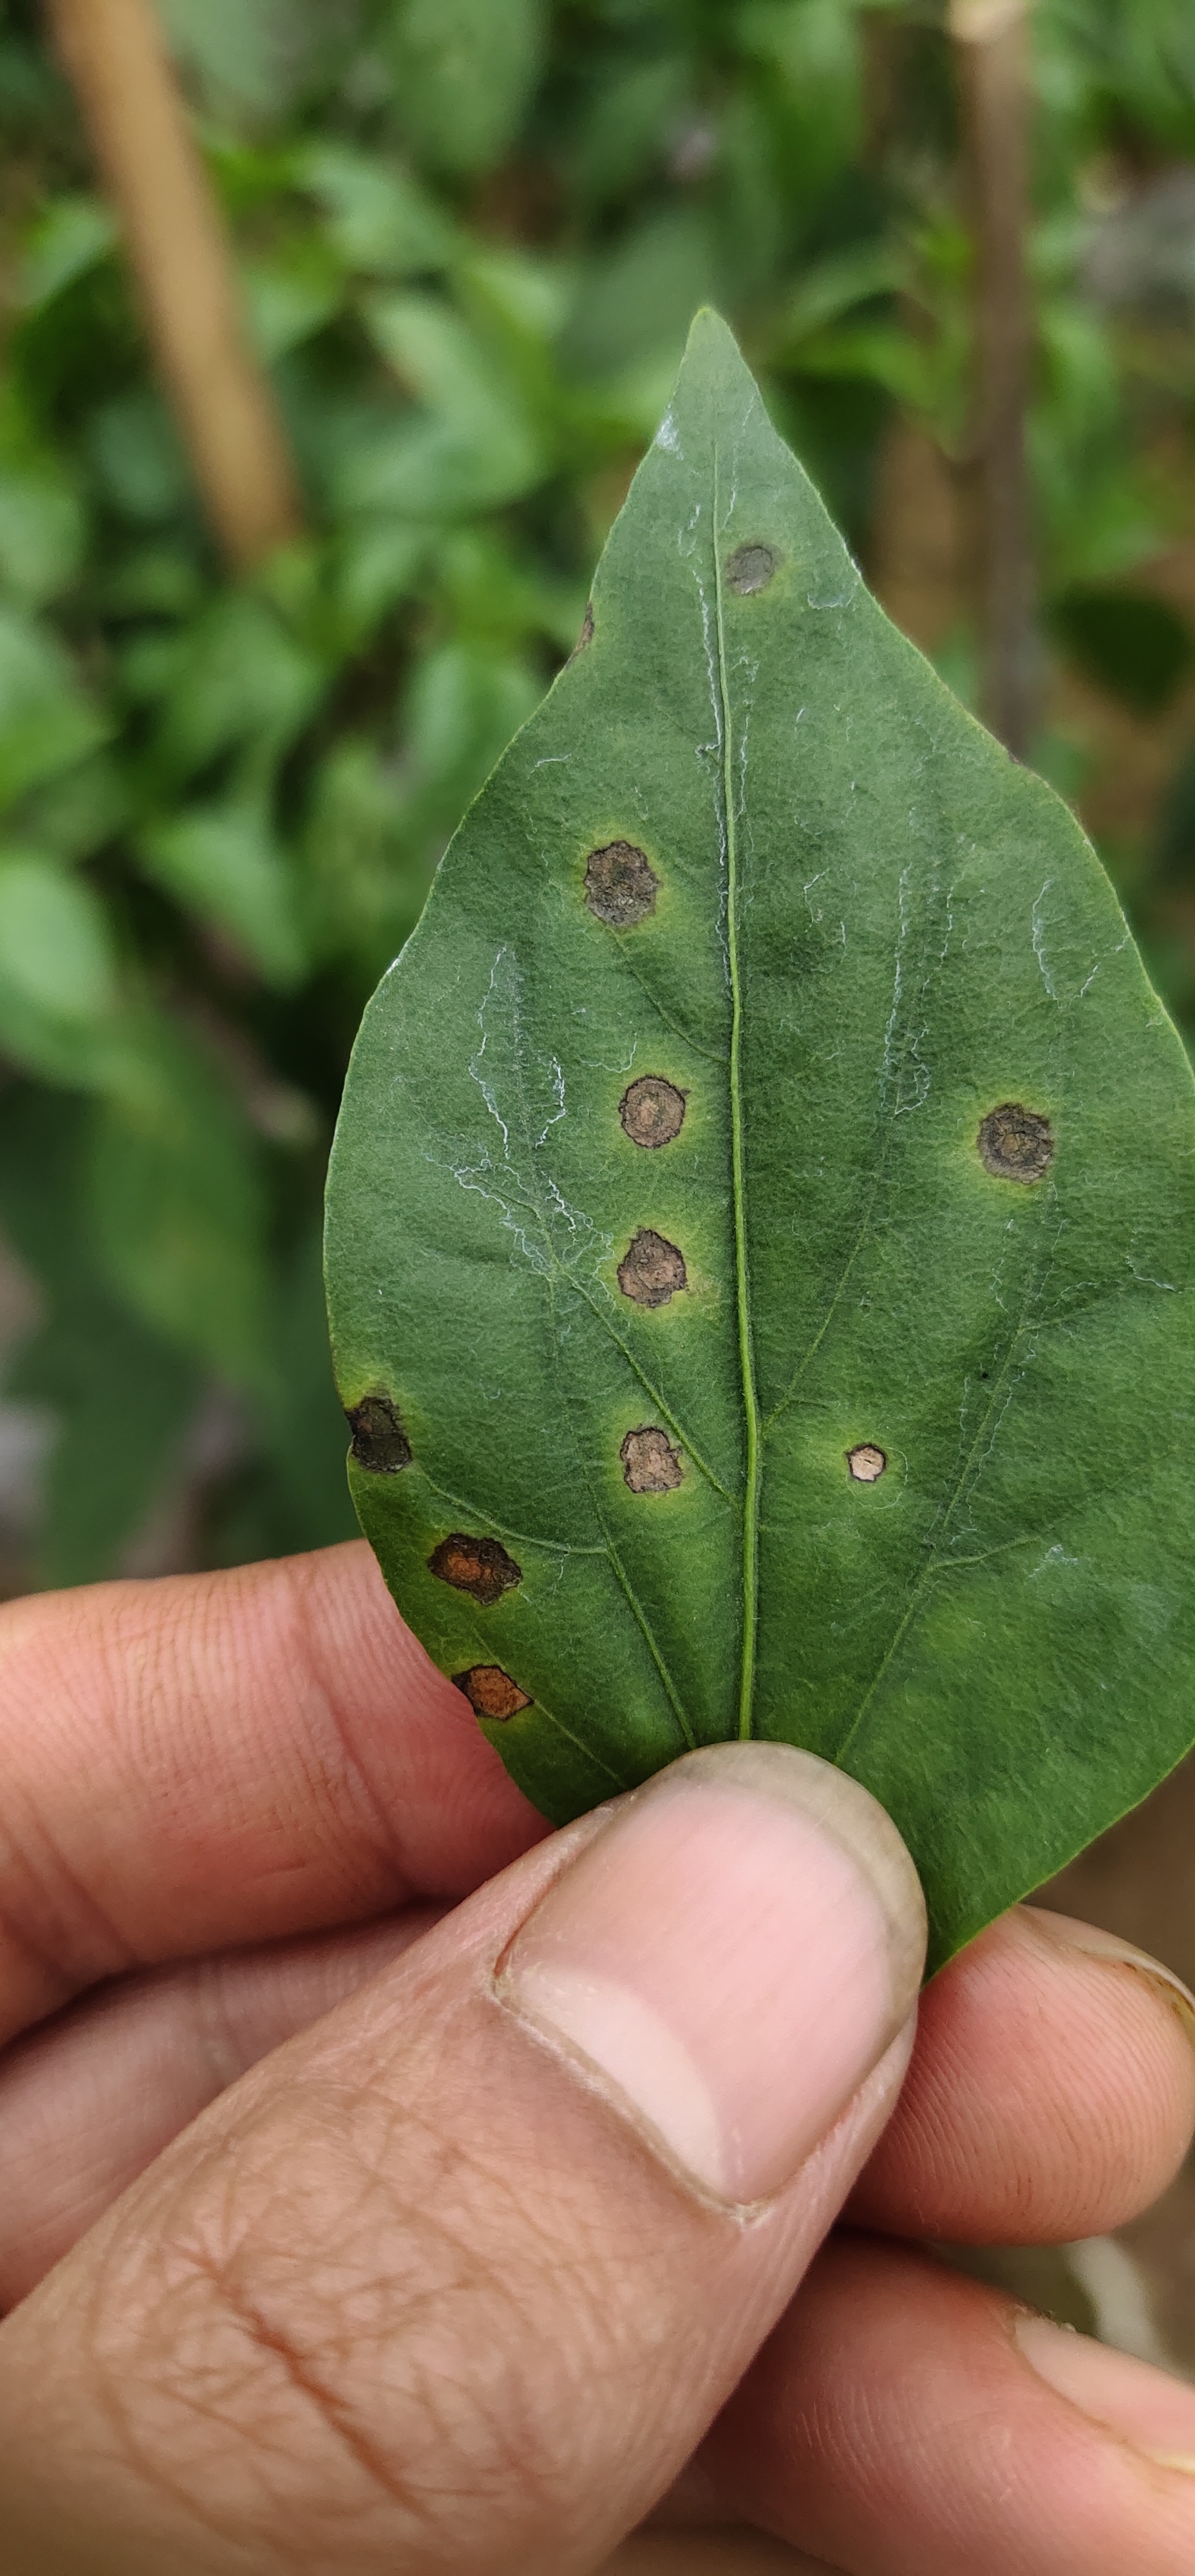Anthrax: (312, 302, 1195, 1884)
